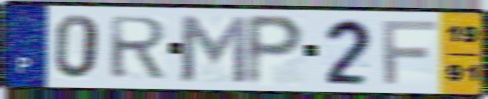0: (51, 12, 101, 82)
2: (319, 15, 376, 89)
F: (380, 19, 440, 87)
M: (176, 13, 250, 86)
P: (243, 12, 308, 88)
R: (106, 14, 171, 81)
